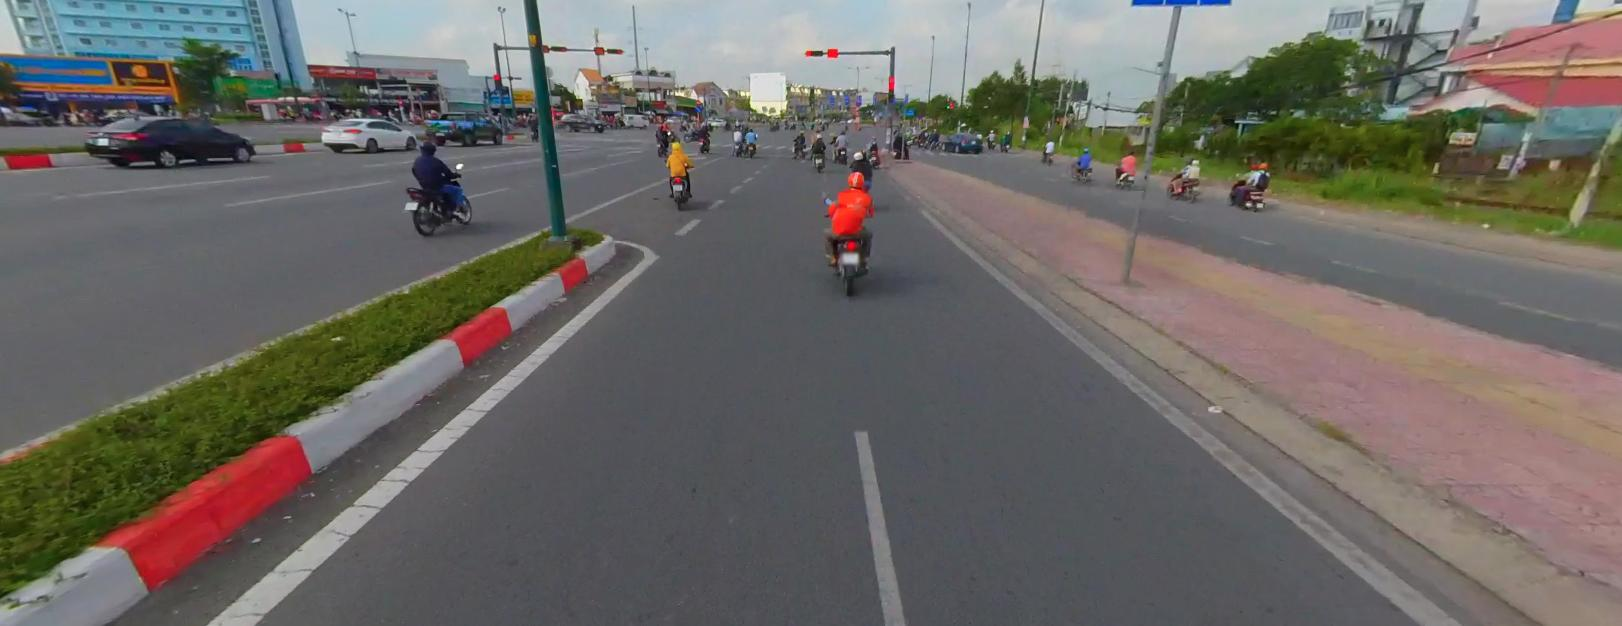Cam nguoc chieu: (695, 98, 700, 105)
Hieu lenh: (694, 105, 701, 111)
